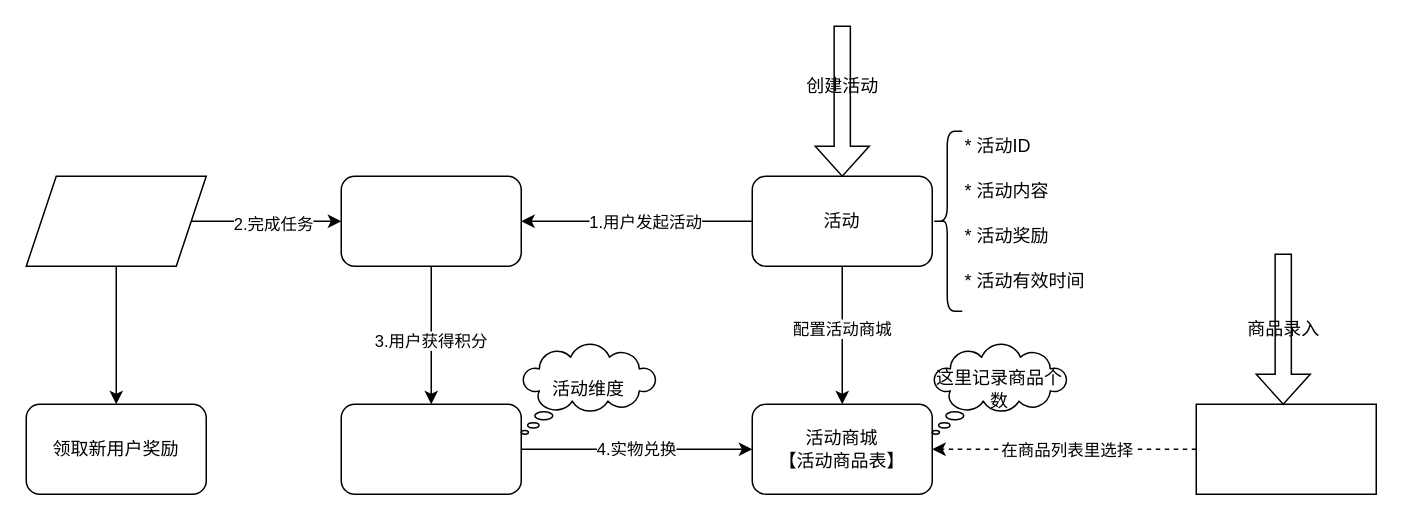
Image size: 1403x521. Some labels were removed from this diagram. Here are the shapes that lost their labels. From the top down, the box of each, then its label:
(25, 175, 206, 266): 拉新用户履约
(340, 175, 521, 266): 老用户发起活动
(340, 403, 521, 494): 积分账户
(1195, 403, 1376, 494): 商品列表
